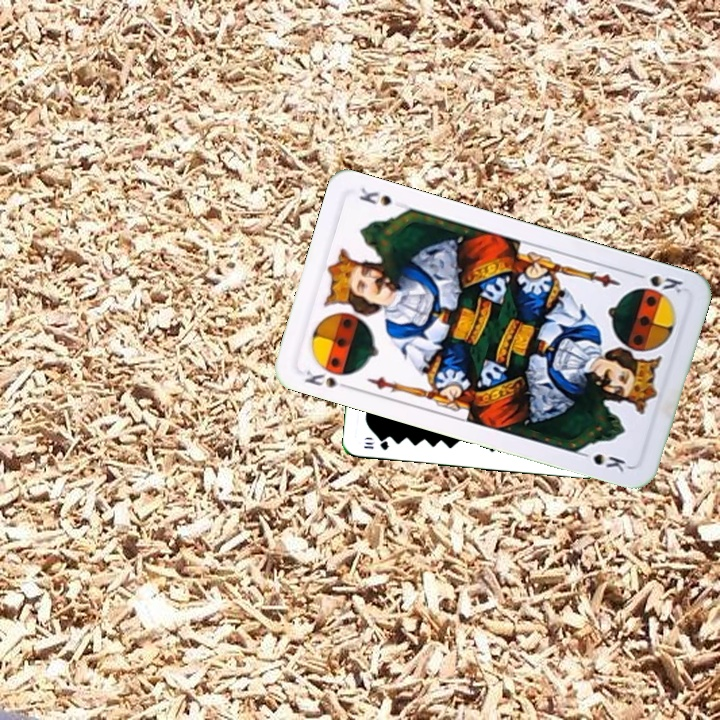G10: (360, 437, 391, 452)
SK: (629, 268, 685, 299), (300, 366, 355, 391)
